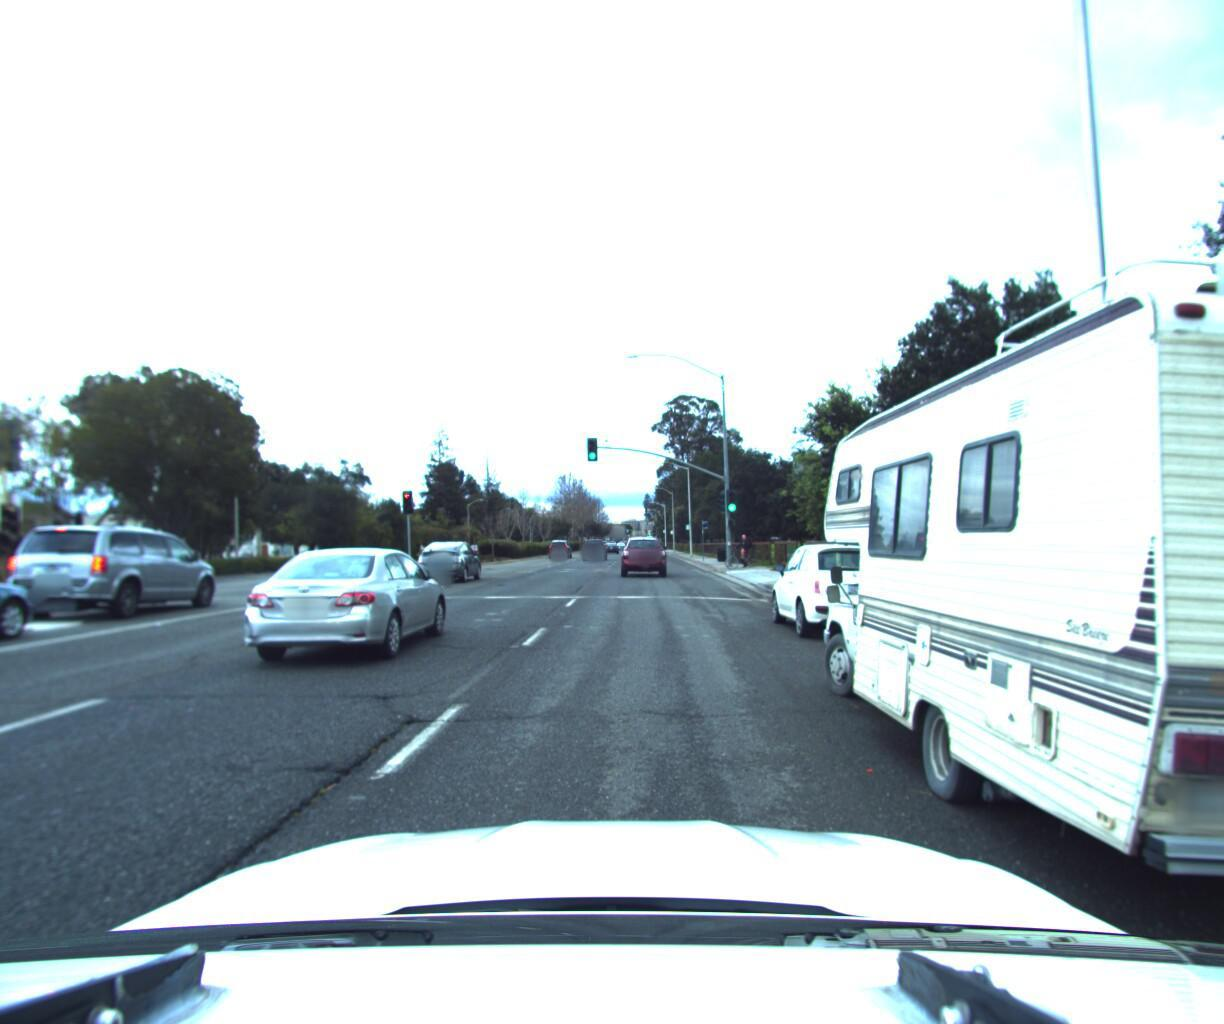bicycle: (725, 528, 760, 564)
car: (231, 544, 460, 672), (0, 526, 234, 626), (764, 534, 916, 641), (0, 539, 67, 691), (409, 534, 491, 583), (617, 535, 665, 576), (579, 535, 607, 556), (545, 532, 572, 551)
other_vehicle: (791, 80, 1224, 1009)
